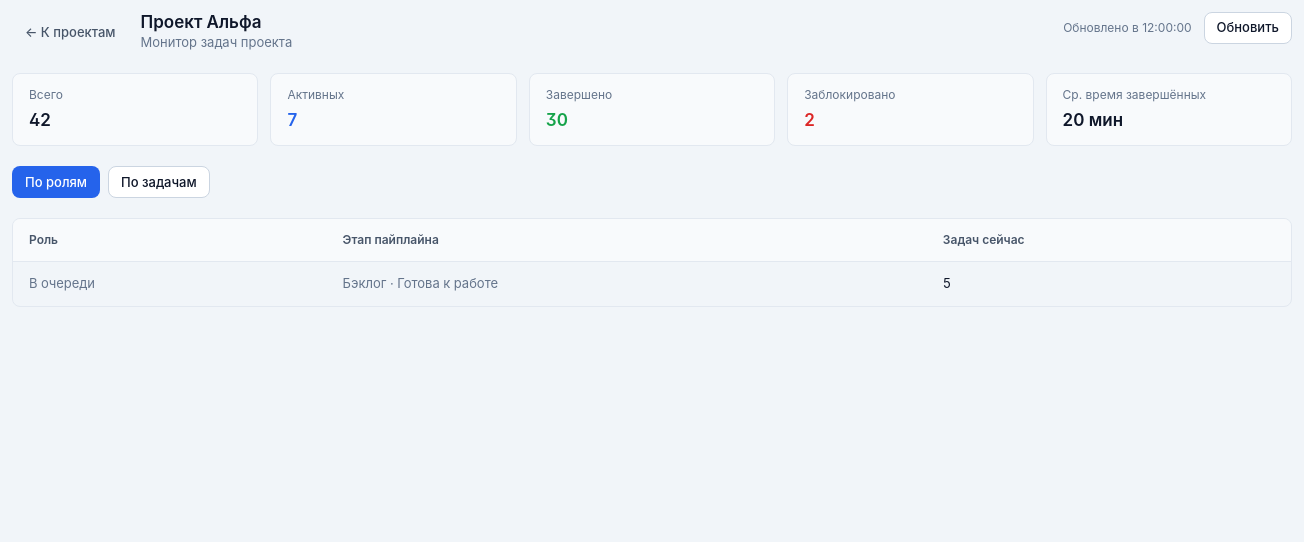
Scenario: ProjectMonitor — фильтры и сортировка › фильтр по статусу скрывает строки с другим статусом
The image size is (1304, 542).
Step 1. Click the tab "По задачам" → x=159, y=182, box top-left (108, 166), bottom-right (210, 198)
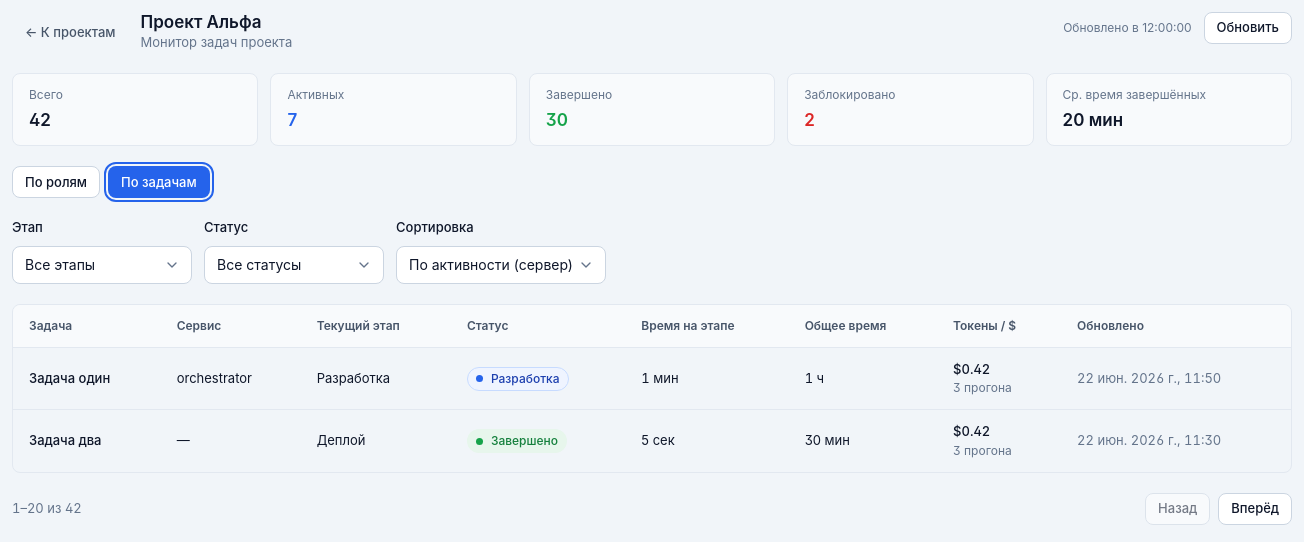
expect the text "Задача один" is shown: met, box top-left (29, 369), bottom-right (110, 388)
expect the text "Задача два" is shown: met, box top-left (29, 431), bottom-right (102, 451)
Step 2. Select "Завершено" in the dropdown labelled "Статус" → x=294, y=265, box top-left (204, 246), bottom-right (384, 284)
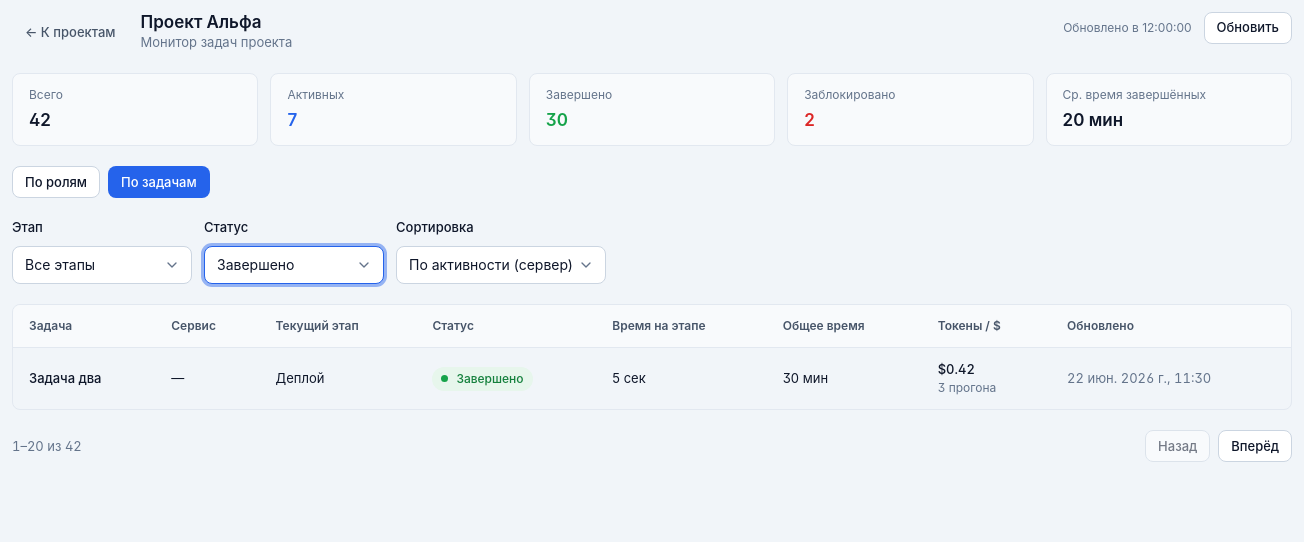
expect the text "Задача два" is shown: met, box top-left (29, 369), bottom-right (102, 388)
expect the text "Задача один" is gone: met
